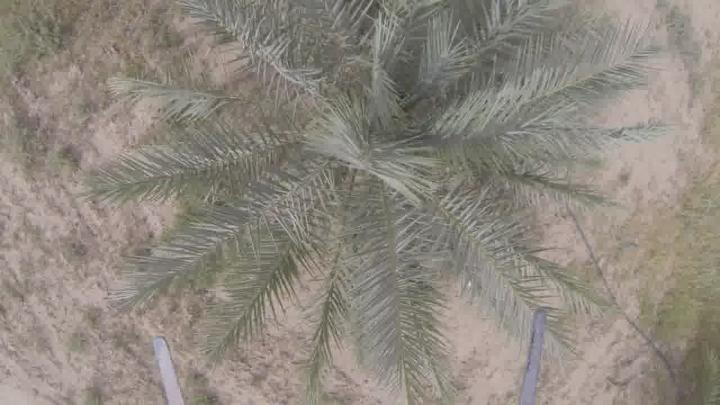Date-Palm-Crown: (225, 0, 505, 286)
